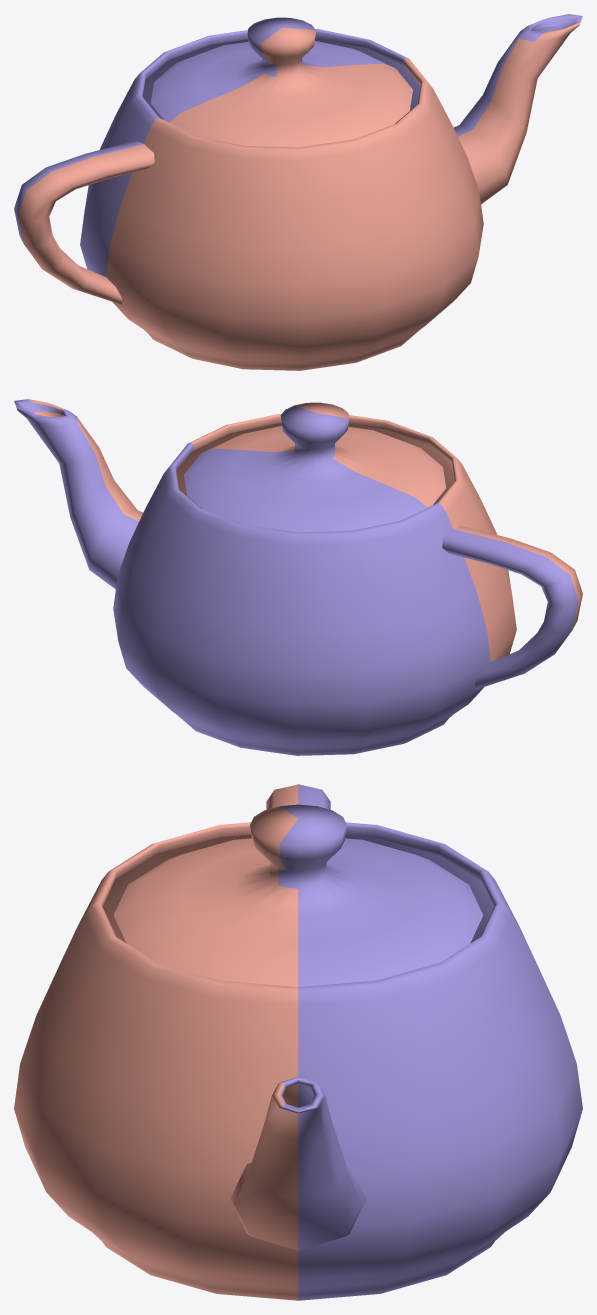
Rendered from teapot.FBX.
The picture shows the model from 3 angles, top to bottom: view 1: azimuth 30°, elevation 25°; view 2: azimuth 150°, elevation 25°; view 3: azimuth 270°, elevation 25°; orthographic projection. The views are drawn at different scales.
Visible parts, largest first — view 1: Teapot01; view 2: Teapot01; view 3: Teapot01.
Part boxes in pixels (x1,y1,x2,y2): Teapot01: (14,14,582,370); Teapot01: (14,399,582,755); Teapot01: (14,784,582,1300).
Bounding box in the file's own units: 7789 × 3817 × 4847.
